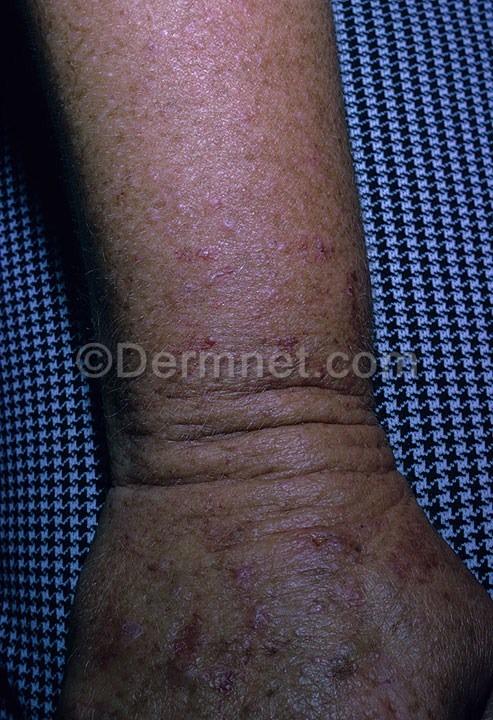Melasma: (352, 246, 468, 720), (277, 11, 365, 129)
